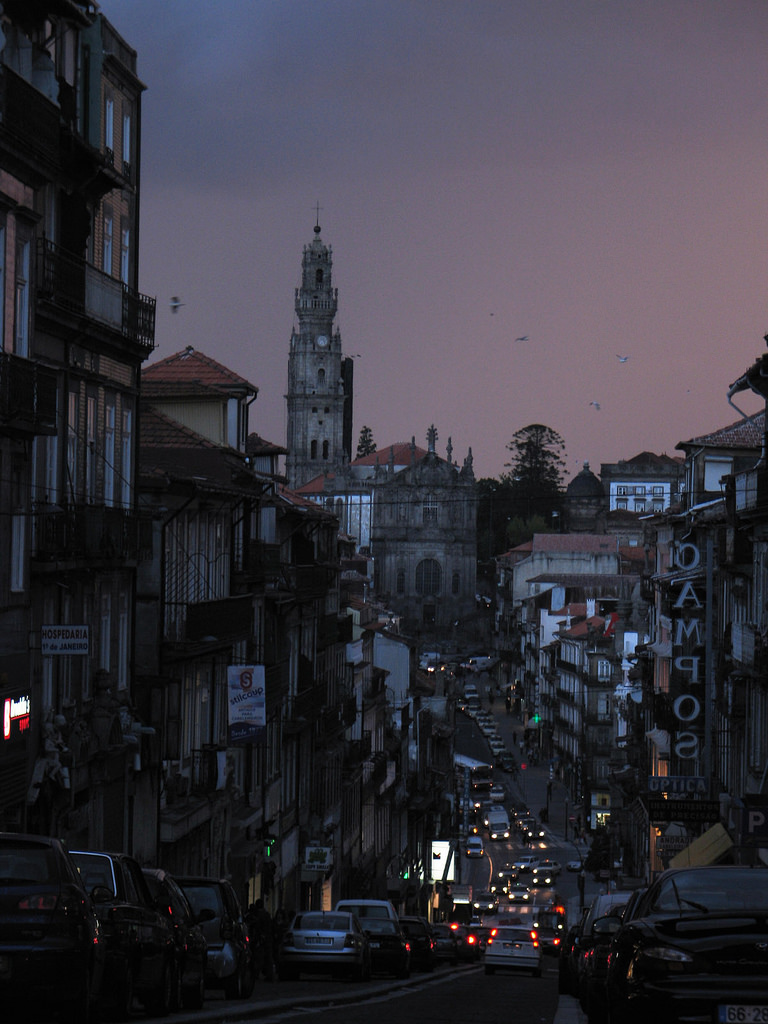clerigos: (278, 197, 356, 487)
